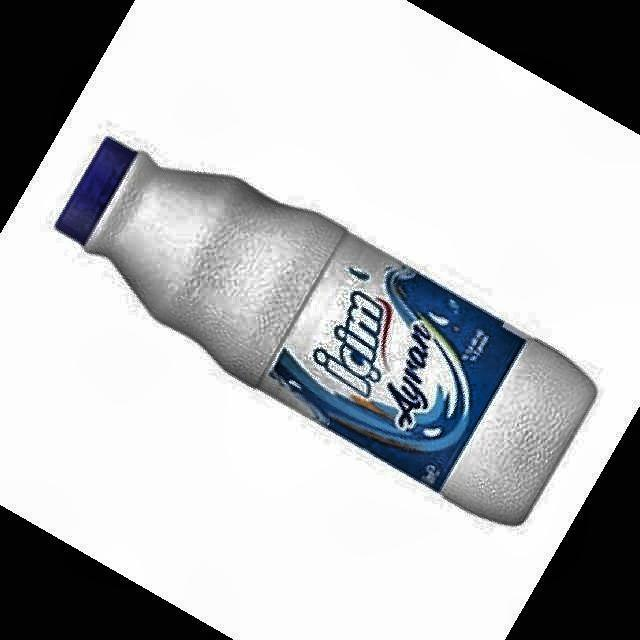plastic: (56, 138, 595, 524)
